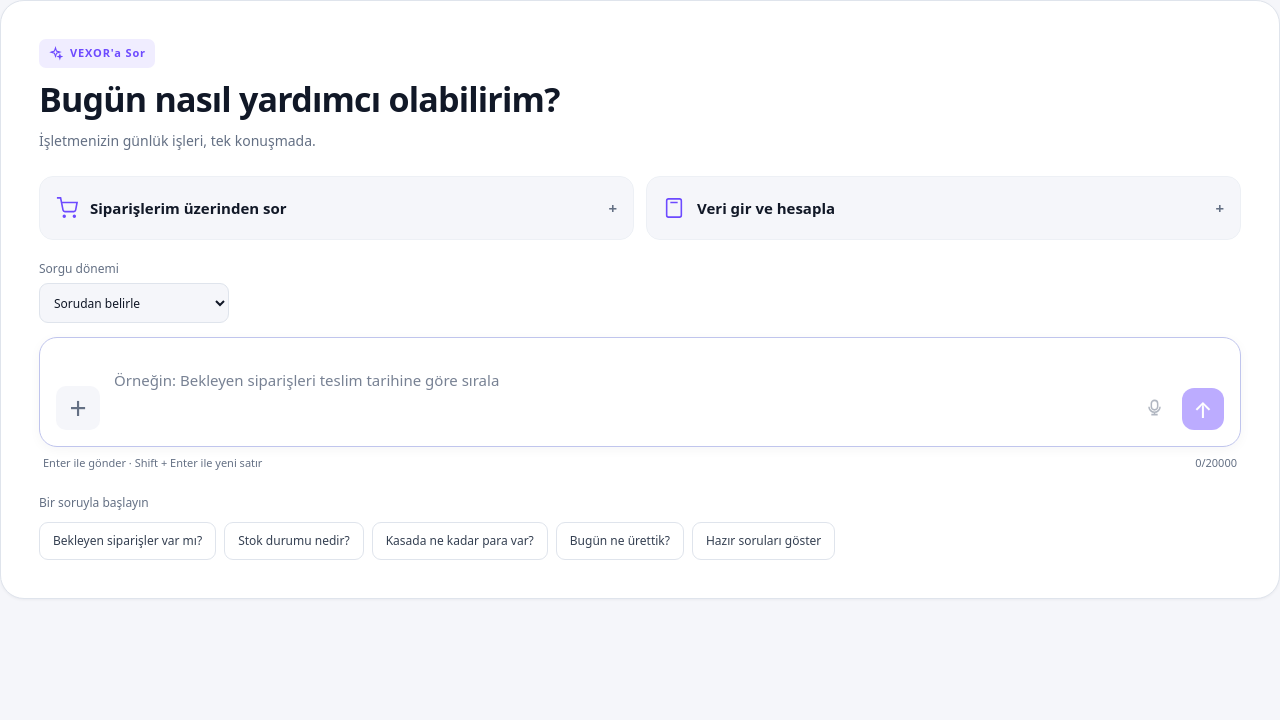
Scenario: validates custom dates, preserves them on retry and shows the server period
The image size is (1280, 720).
Select "Özel tarih" in the dropdown labelled "Sorgu dönemi" at [134, 303], box [39, 283, 229, 323]
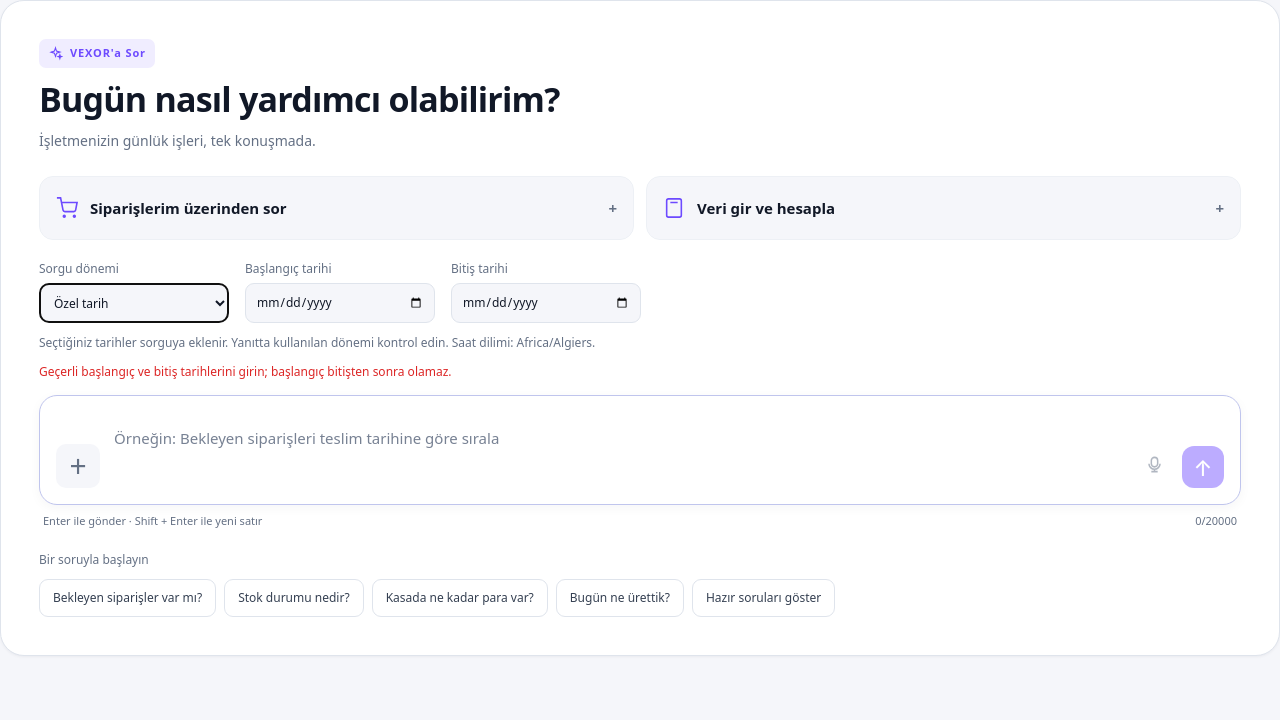
Type "Siparişleri özetle" into the text box at [617, 450], box [110, 422, 1124, 478]
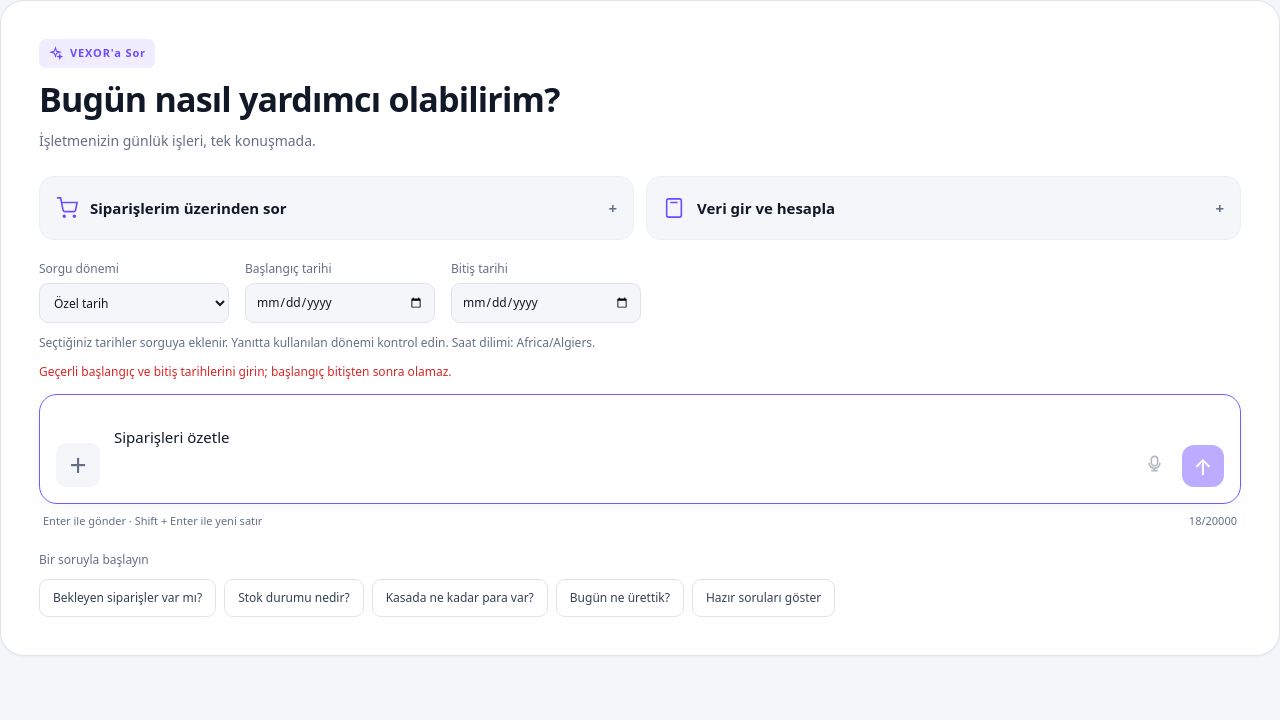
Check: the button named "Gönder" is disabled, box [1182, 445, 1224, 487]
Type "2026-09-01" into the date field labelled "Başlangıç tarihi" at [340, 303], box [245, 283, 435, 323]
Type "2026-09-30" into the date field labelled "Bitiş tarihi" at [546, 303], box [451, 283, 641, 323]
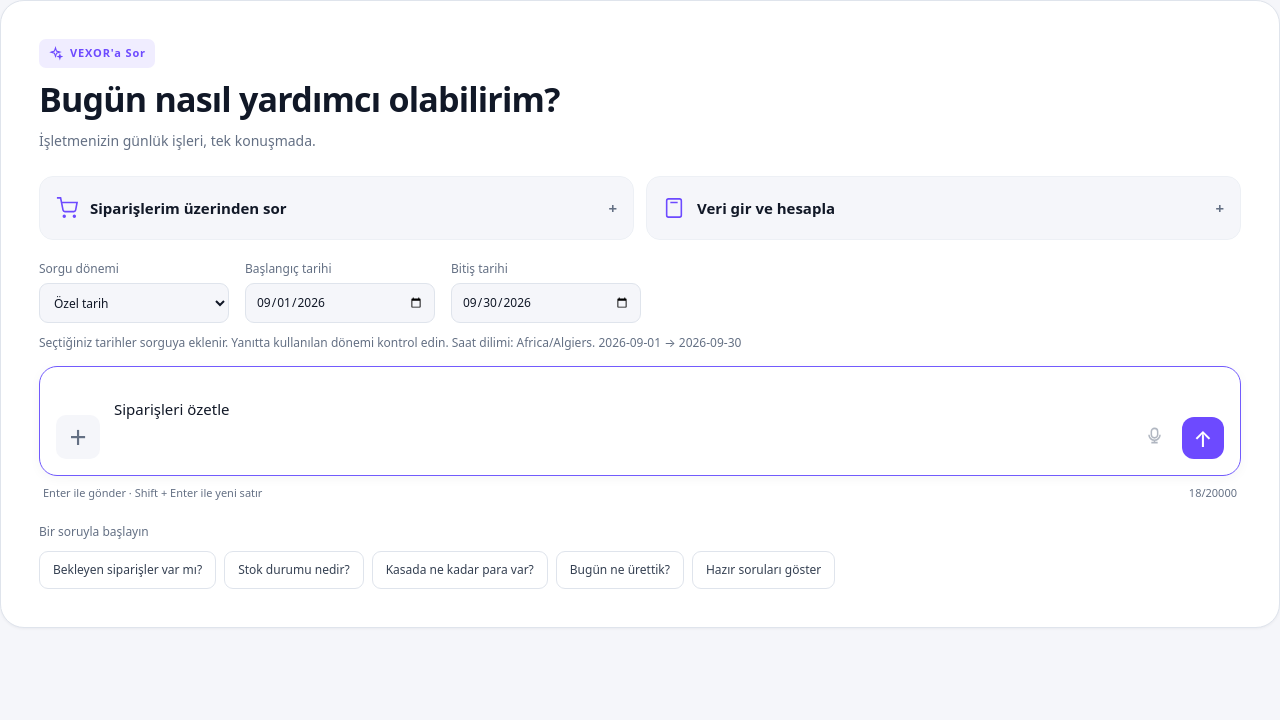
Click the button named "Gönder" at [1203, 438], box [1182, 417, 1224, 459]
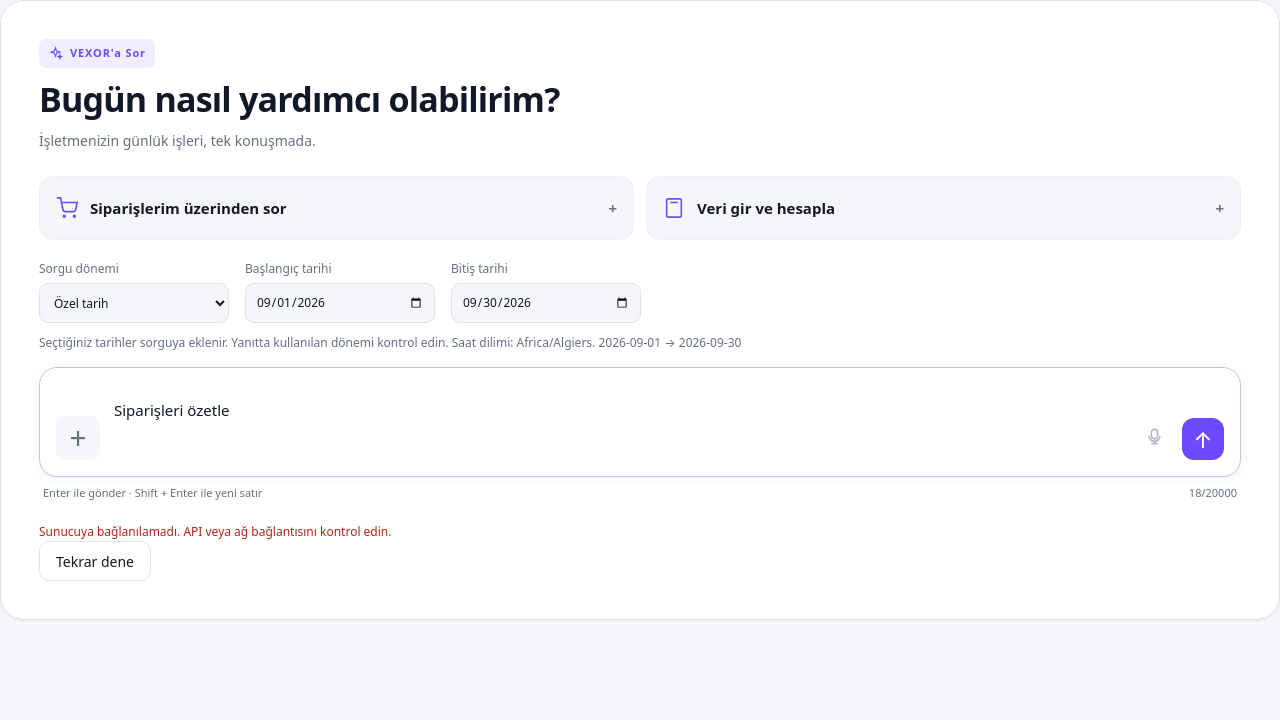
Check: the message "Sunucuya bağlanılamadı. API veya ağ bağlantısını kontrol edin." is shown, box [39, 523, 392, 540]
Select "Sorudan belirle" in the dropdown labelled "Sorgu dönemi" at [134, 303], box [39, 283, 229, 323]
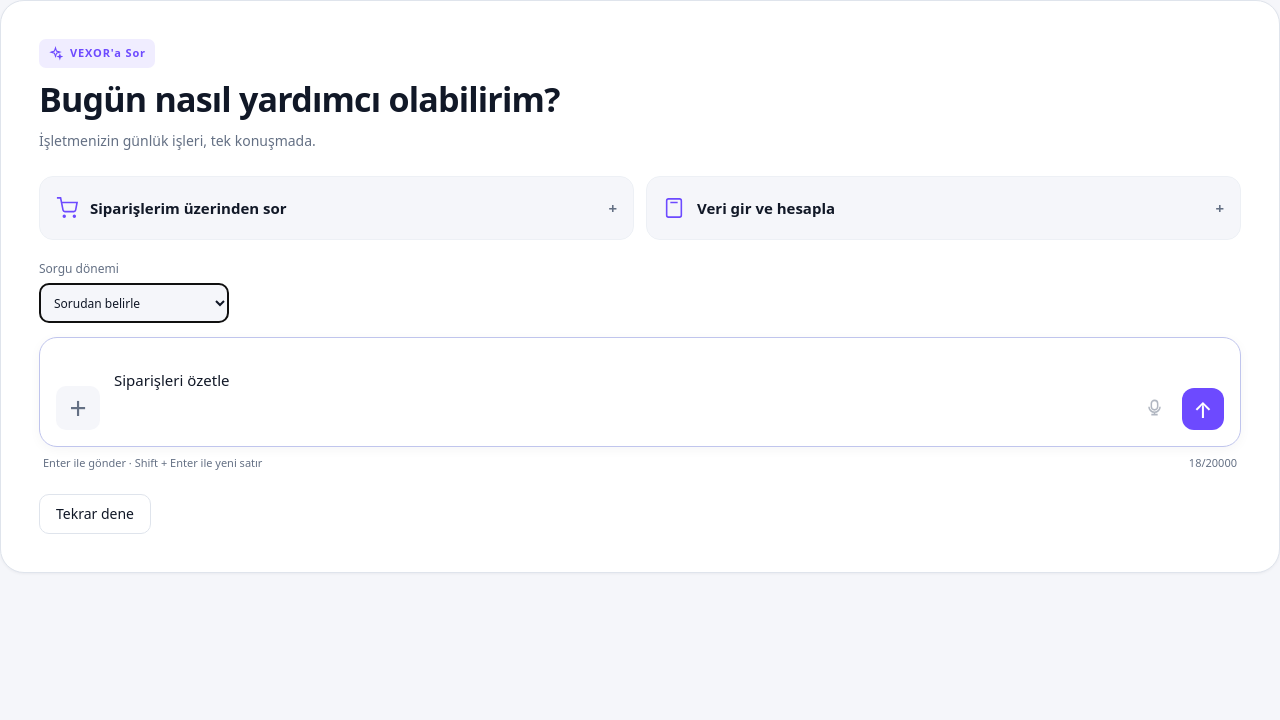
Click the button "Tekrar dene" at [95, 514], box [39, 494, 151, 534]
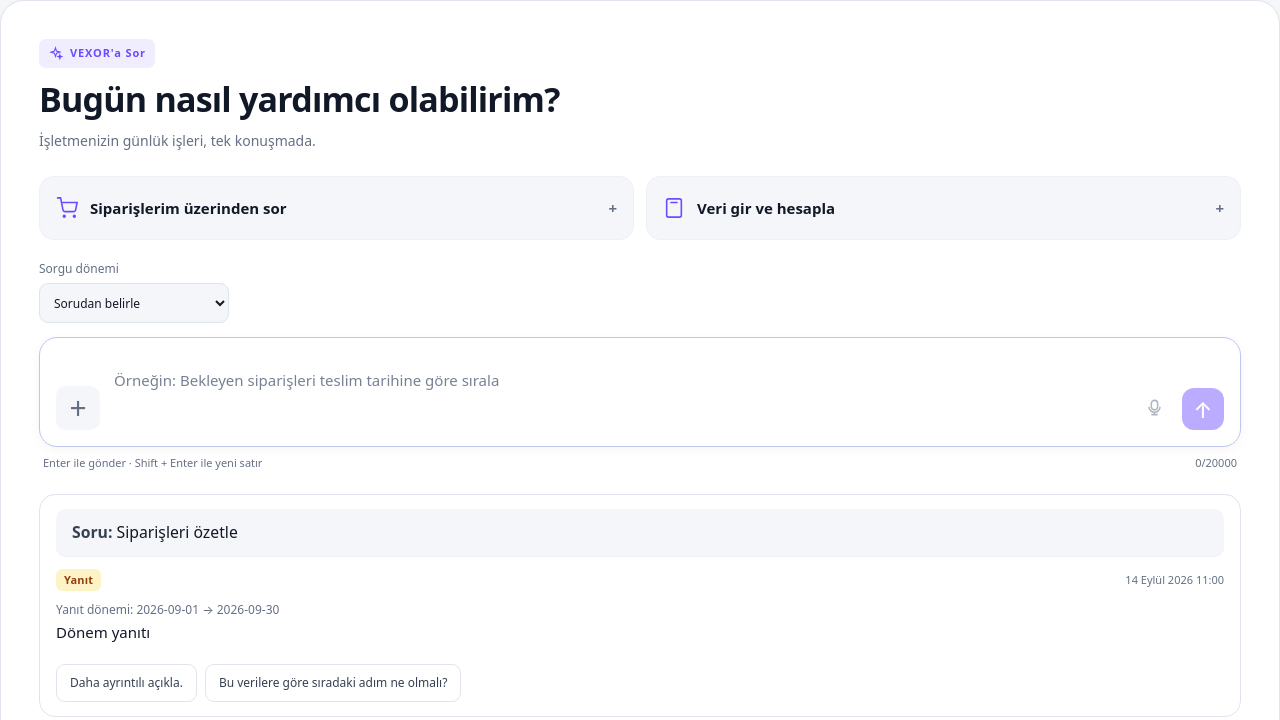
Check: the text "Dönem yanıtı" is shown, box [56, 622, 150, 642]
Check: the text "Yanıt dönemi: 2026-09-01 → 2026-09-30" is shown, box [56, 601, 279, 618]
